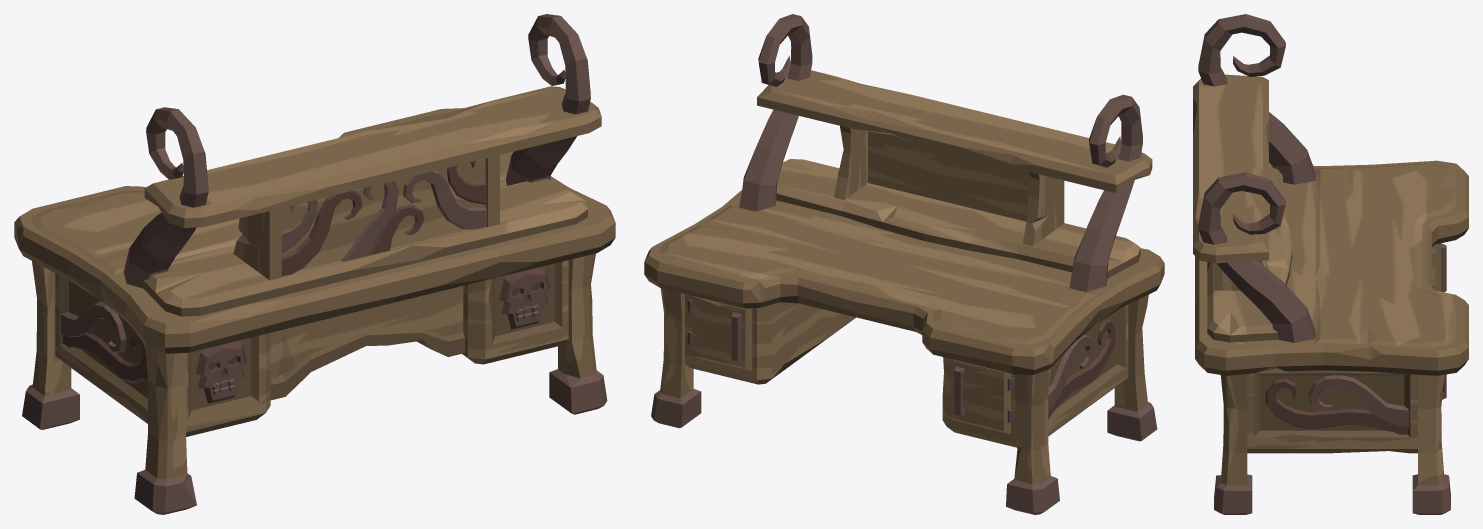
Rendered from SM_Prop_Desk_02.fbx.
3 renders of one model, left to right at view 1: azimuth 30°, elevation 25°; view 2: azimuth 150°, elevation 25°; view 3: azimuth 270°, elevation 25°, orthographic. The views are drawn at different scales.
Visible parts, largest first — view 1: SM_Prop_Desk_02; view 2: SM_Prop_Desk_02; view 3: SM_Prop_Desk_02.
Boxes of the visible parts, <box> form: SM_Prop_Desk_02: <box>14,14,615,514</box>; SM_Prop_Desk_02: <box>644,14,1164,514</box>; SM_Prop_Desk_02: <box>1193,14,1468,514</box>.
Bounding box in the file's own units: 178 × 141 × 107.
